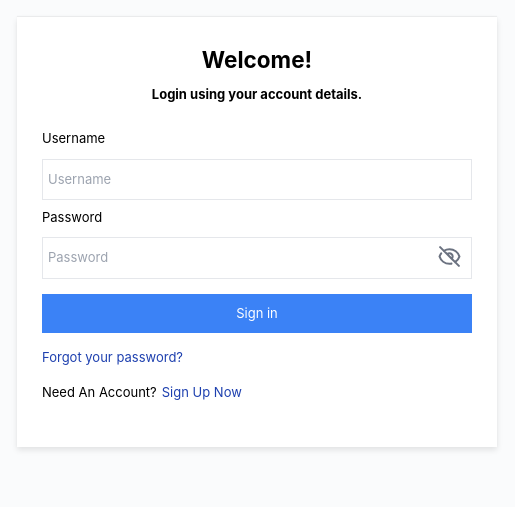
Scenario: should validate input on signin
Click the button "Sign in" at (257, 313), box left=42, top=294, right=472, bottom=333
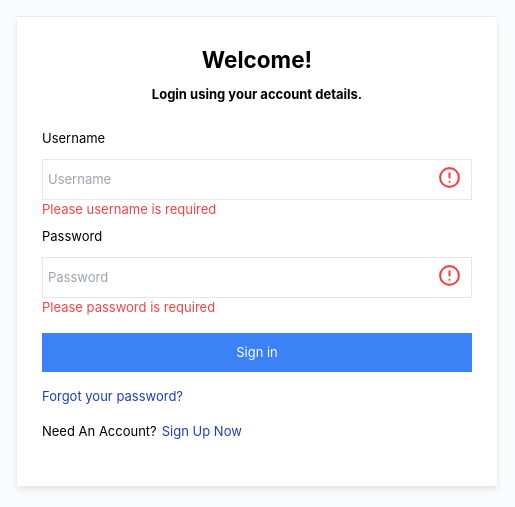
Expected: the text "Please username is required" is shown, left=42, top=201, right=216, bottom=217
Expected: the text "Please password is required" is shown, left=42, top=299, right=215, bottom=315
